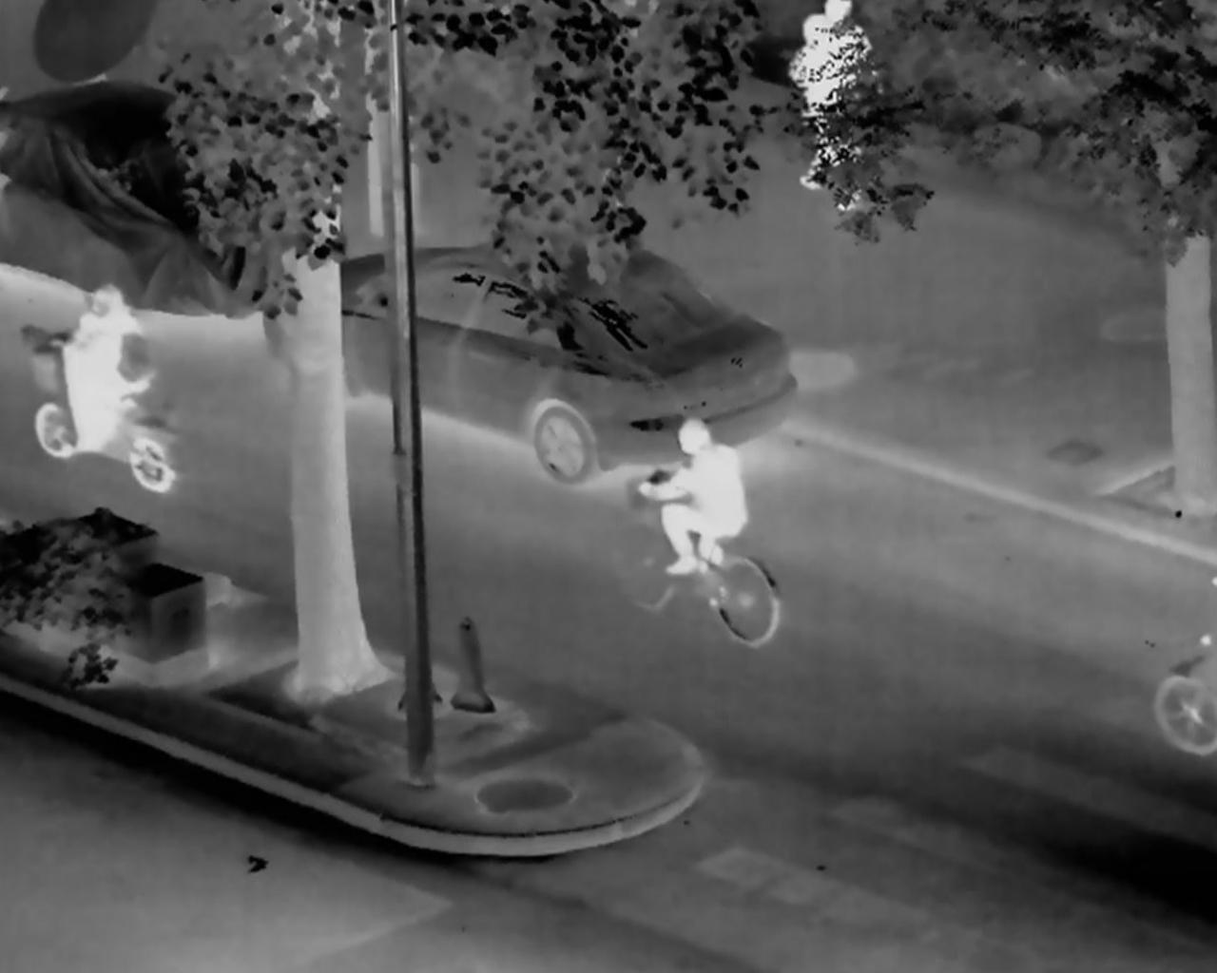person: (53, 285, 161, 447), (638, 421, 745, 575), (786, 20, 853, 199)
